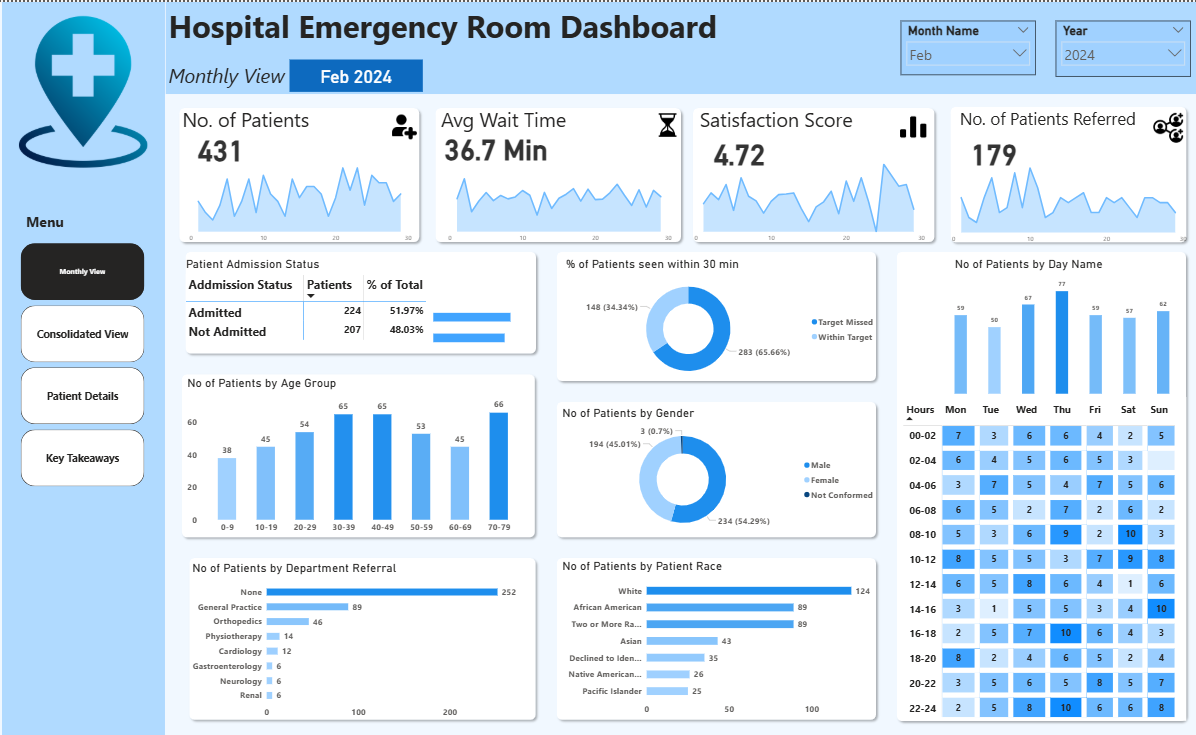

The dashboard page shown, as its layout file describes it:
{"tool":"powerbi","page":{"name":"Monthly View","canvas":[2300,1400],"ordinal":0},"visuals":[{"type":"shape","box":[9.9,0,310,1399],"z":0},{"type":"shape","box":[320.5,0,1980,175.1],"z":1000},{"type":"textbox","box":[320.5,0,1082.4,108.5],"z":2000},{"type":"textbox","box":[320.5,108.5,305.7,66.6],"z":3000},{"type":"shape","box":[336.6,193.5,474.4,273],"z":4000},{"type":"card","fields":{"Values":["Hospital ER_Data.No of Patients"]},"box":[347.2,238.5,156.4,76.9],"z":5000},{"type":"slicer","fields":{"Values":["Date Table.Year"]},"box":[2014.5,34.5,256.4,106],"z":6000},{"type":"slicer","fields":{"Values":["Date Table.Month Name"]},"box":[1718.6,34.5,256.4,103.6],"z":7000},{"type":"areaChart","fields":{"Category":["Date Table.Date.Variation.Date Hierarchy.Day"],"Y":["Hospital ER_Data.No of Patients"]},"box":[355.2,280.9,442.6,185.5],"z":8000},{"type":"textbox","box":[347.7,192.3,276.2,66.6],"z":9000},{"type":"card","fields":{"Values":["Min(Date Table.Month Year)"]},"box":[557.2,108.5,254,61.6],"z":10000},{"type":"shape","box":[1804.9,190.8,466.5,275.6],"z":11000},{"type":"shape","box":[824.3,193.5,485,273],"z":12000},{"type":"card","fields":{"Values":["Hospital ER_Data.Avg Wait Time"]},"box":[837.5,227.9,225.3,92.8],"z":13000},{"type":"areaChart","fields":{"Category":["Date Table.Date.Variation.Date Hierarchy.Day"],"Y":["Hospital ER_Data.No.of Patients Referred"]},"box":[1804.9,283.6,466.5,185.5],"z":14000},{"type":"textbox","box":[838.3,192.3,278.6,66.6],"z":15000},{"type":"shape","box":[1314.6,193.5,477.1,273],"z":16000},{"type":"card","fields":{"Values":["Hospital ER_Data.Satisfaction Score"]},"box":[1333.1,246.5,156.4,74.2],"z":17000},{"type":"areaChart","fields":{"Category":["Date Table.Date.Variation.Date Hierarchy.Day"],"Y":["Avg(Hospital ER_Data.Patient Waittime)"]},"box":[845.5,304.8,445.3,161.7],"z":18000},{"type":"textbox","box":[1331.5,192.3,318.1,66.6],"z":19000},{"type":"card","fields":{"Values":["Hospital ER_Data.No.of Patients Referred"]},"box":[1815.5,243.8,159,76.9],"z":20000},{"type":"areaChart","fields":{"Category":["Date Table.Date.Variation.Date Hierarchy.Day"],"Y":["Hospital ER_Data.Satisfaction Score"]},"box":[1314.6,294.2,458.5,172.3],"z":21000},{"type":"shape","box":[349.5,466,684.8,211.6],"z":22000},{"type":"textbox","box":[1827.1,194.8,411.8,66.6],"z":23000},{"type":"pivotTable","title":"Patient Admission Status","fields":{"Rows":["Hospital ER_Data.Addmission Status"],"Values":["Hospital ER_Data.No of Patients","Divide(Hospital ER_Data.No of Patients, ScopedEval(Hospital ER_Data.No of Patients, []))"]},"box":[354.3,485.1,760.9,214],"z":24000},{"type":"barChart","fields":{"Category":["Hospital ER_Data.Addmission Status"],"Y":["Hospital ER_Data.No of Patients"]},"box":[824.3,559.2,206.7,116.6],"z":25000},{"type":"shape","box":[343.6,699.8,689.6,328.3],"z":26000},{"type":"columnChart","fields":{"Category":["Hospital ER_Data.Age Group"],"Y":["Hospital ER_Data.No of Patients"]},"box":[357.8,710.3,652,310.1],"z":27000},{"type":"shape","box":[356.3,1048.5,676.9,325.7],"z":28000},{"type":"barChart","fields":{"Y":["Hospital ER_Data.No of Patients"],"Category":["Hospital ER_Data.Department Referral"]},"box":[365.8,1062.8,644,310.1],"z":29000},{"type":"shape","box":[1055.7,466,625.3,263.9],"z":30000},{"type":"shape","box":[1055.7,751.4,625.3,275.8],"z":31000},{"type":"donutChart","title":"% of Patients seen within 30 min","fields":{"Category":["Hospital ER_Data.Waittime Status"],"Y":["Hospital ER_Data.No of Patients"]},"box":[1077.1,485.1,603.9,244.9],"z":32000},{"type":"donutChart","title":"No of Patients by Gender","fields":{"Y":["Hospital ER_Data.No of Patients"],"Category":["Hospital ER_Data.Patient Gender"]},"box":[1070,768,611.1,252],"z":33000},{"type":"shape","box":[1055.7,1048.6,625.3,325.7],"z":34000},{"type":"barChart","fields":{"Y":["Hospital ER_Data.No of Patients"],"Category":["Hospital ER_Data.Patient Race"]},"box":[1070,1058.1,611.1,309.1],"z":35000},{"type":"shape","box":[1702.5,466,568.3,910.7],"z":36000},{"type":"pivotTable","fields":{"Rows":["Hospital ER_Data.Waittime Interval"],"Columns":["Date Table.Day Name"],"Values":["Hospital ER_Data.No of Patients"]},"box":[1719.1,751.4,543,615.8],"z":37000},{"type":"columnChart","fields":{"Y":["Hospital ER_Data.No of Patients"],"Category":["Date Table.Day Name"]},"box":[1816.6,485.1,420.9,266.3],"z":38000},{"type":"image","box":[14.3,21.4,299.6,299.6],"z":39000},{"type":"image","box":[739.5,209.2,71.3,57.1],"z":40000},{"type":"image","box":[1241.2,206.9,69,54.7],"z":41000},{"type":"image","box":[1702.5,202.1,80.8,71.3],"z":42000},{"type":"image","box":[2194.6,202.1,66.6,73.7],"z":43000},{"type":"pageNavigator","box":[45.6,458.7,235.3,463.5],"z":44000},{"type":"textbox","box":[50.4,393.8,230.5,72],"z":45000}]}

Visuals, with their boxes in screenshot pixels (x1, y1, x2, y2), scaled from the page's 2300x1400 canvas onto the 1196x735 screenshot:
shape: l=5, t=0, r=166, b=734
shape: l=167, t=0, r=1195, b=92
textbox: l=167, t=0, r=730, b=57
textbox: l=167, t=57, r=326, b=92
shape: l=175, t=102, r=422, b=245
card - Hospital ER_Data.No of Patients: l=181, t=125, r=262, b=166
slicer - Date Table.Year: l=1048, t=18, r=1181, b=74
slicer - Date Table.Month Name: l=894, t=18, r=1027, b=73
areaChart - Date Table.Date.Variation.Date Hierarchy.Day x Hospital ER_Data.No of Patients: l=185, t=147, r=415, b=245
textbox: l=181, t=101, r=324, b=136
card - Min(Date Table.Month Year): l=290, t=57, r=422, b=89
shape: l=939, t=100, r=1181, b=245
shape: l=429, t=102, r=681, b=245
card - Hospital ER_Data.Avg Wait Time: l=436, t=120, r=553, b=168
areaChart - Date Table.Date.Variation.Date Hierarchy.Day x Hospital ER_Data.No.of Patients Referred: l=939, t=149, r=1181, b=246
textbox: l=436, t=101, r=581, b=136
shape: l=684, t=102, r=932, b=245
card - Hospital ER_Data.Satisfaction Score: l=693, t=129, r=775, b=168
areaChart - Date Table.Date.Variation.Date Hierarchy.Day x Avg(Hospital ER_Data.Patient Waittime): l=440, t=160, r=671, b=245
textbox: l=692, t=101, r=858, b=136
card - Hospital ER_Data.No.of Patients Referred: l=944, t=128, r=1027, b=168
areaChart - Date Table.Date.Variation.Date Hierarchy.Day x Hospital ER_Data.Satisfaction Score: l=684, t=154, r=922, b=245
shape: l=182, t=245, r=538, b=356
textbox: l=950, t=102, r=1164, b=137
"Patient Admission Status" pivotTable: l=184, t=255, r=580, b=367
barChart - Hospital ER_Data.Addmission Status x Hospital ER_Data.No of Patients: l=429, t=294, r=536, b=355
shape: l=179, t=367, r=537, b=540
columnChart - Hospital ER_Data.Age Group x Hospital ER_Data.No of Patients: l=186, t=373, r=525, b=536
shape: l=185, t=550, r=537, b=721
barChart - Hospital ER_Data.No of Patients x Hospital ER_Data.Department Referral: l=190, t=558, r=525, b=721
shape: l=549, t=245, r=874, b=383
shape: l=549, t=394, r=874, b=539
"% of Patients seen within 30 min" donutChart: l=560, t=255, r=874, b=383
"No of Patients by Gender" donutChart: l=556, t=403, r=874, b=536
shape: l=549, t=551, r=874, b=722
barChart - Hospital ER_Data.No of Patients x Hospital ER_Data.Patient Race: l=556, t=556, r=874, b=718
shape: l=885, t=245, r=1181, b=723
pivotTable - Hospital ER_Data.Waittime Interval x Date Table.Day Name: l=894, t=394, r=1176, b=718
columnChart - Hospital ER_Data.No of Patients x Date Table.Day Name: l=945, t=255, r=1164, b=394
image: l=7, t=11, r=163, b=169
image: l=385, t=110, r=422, b=140
image: l=645, t=109, r=681, b=137
image: l=885, t=106, r=927, b=144
image: l=1141, t=106, r=1176, b=145
pageNavigator: l=24, t=241, r=146, b=484
textbox: l=26, t=207, r=146, b=245
